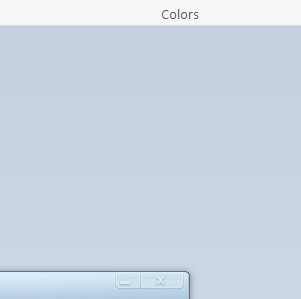close: (140, 271, 184, 289)
